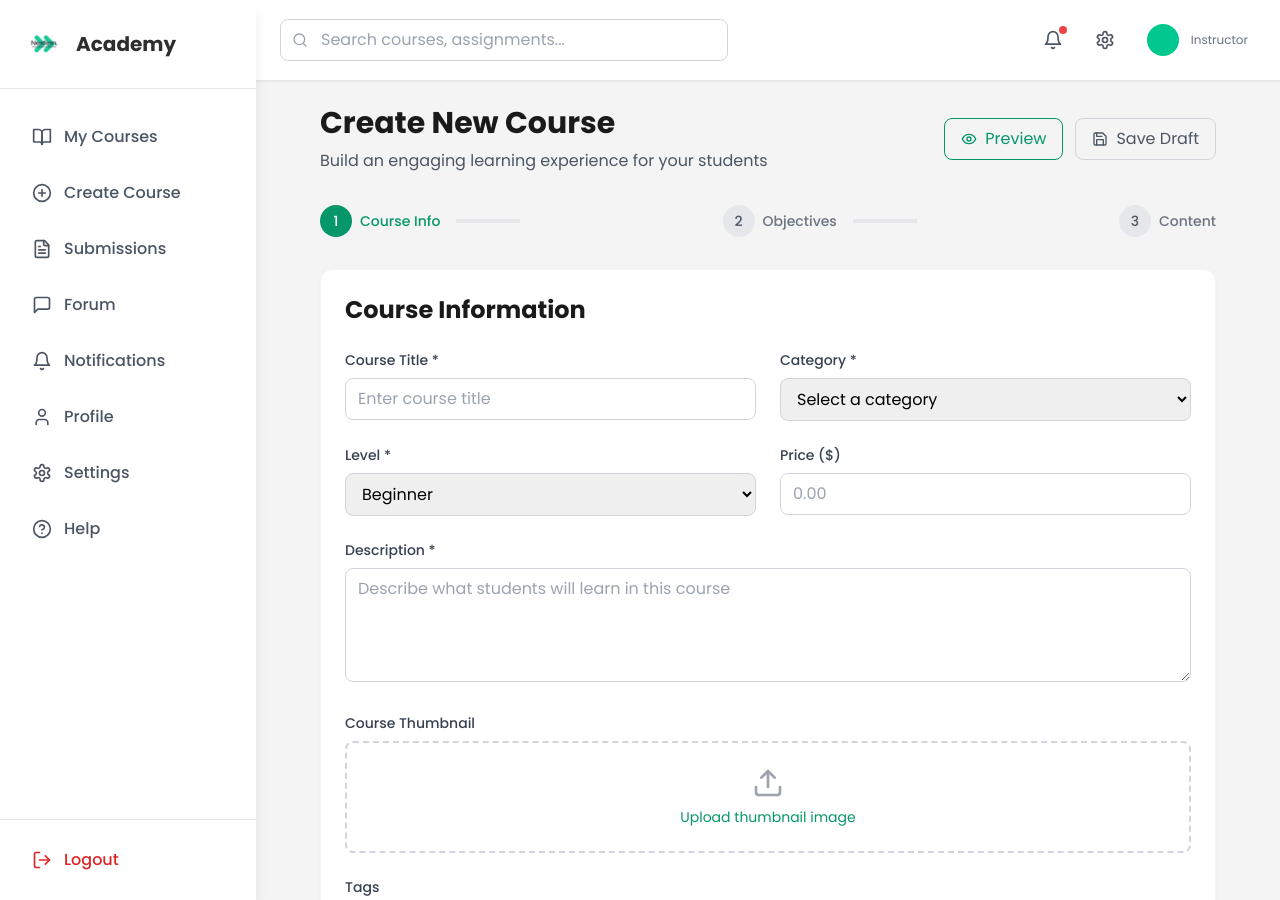
Test case: CreateCoursePage › fills basic info and advances steps
Type "My Course" into the field with placeholder "Enter course title" at (550, 399), box [345, 378, 756, 420]
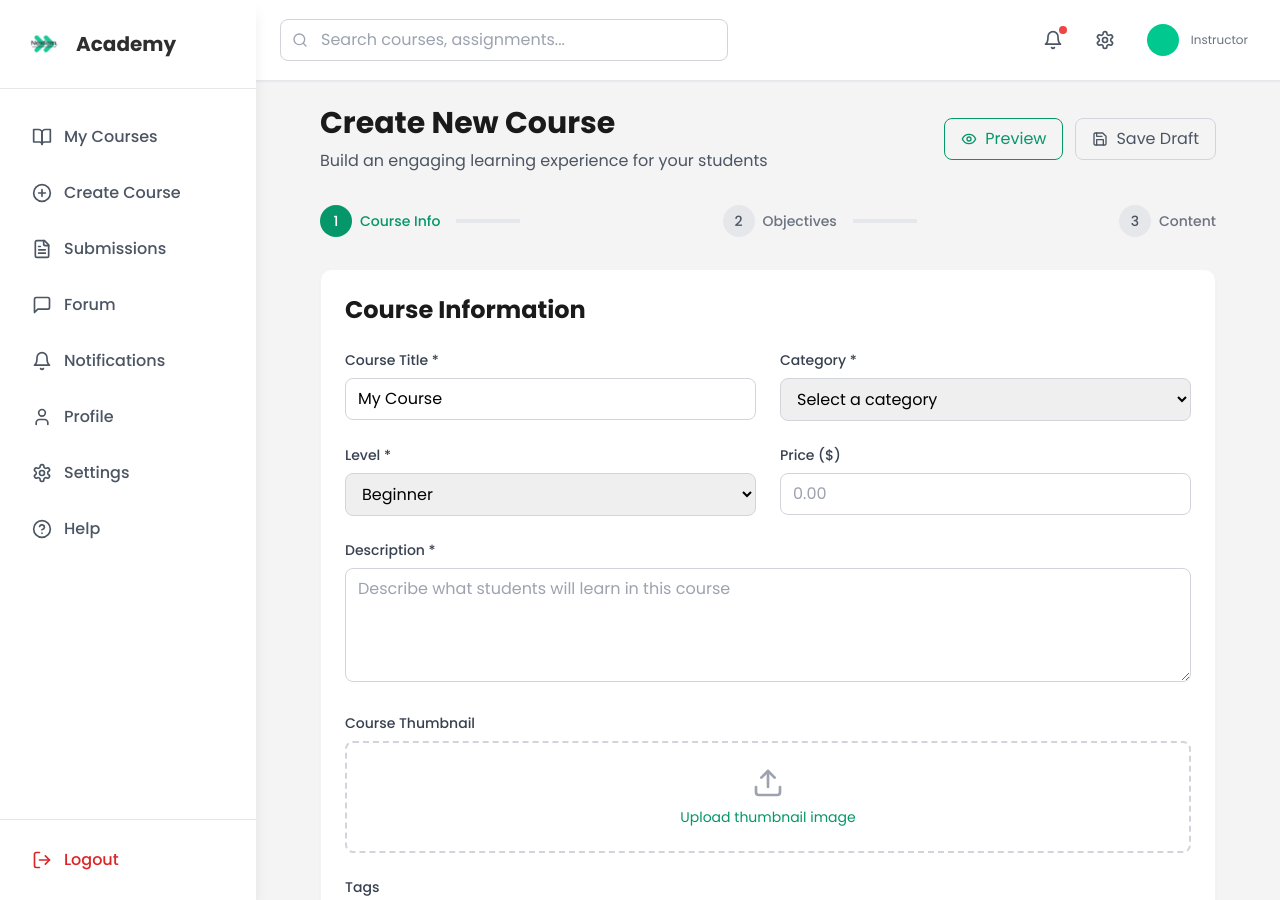
Select "Programming" in the dropdown "Select a category" below "Category *" at (986, 400), box [780, 378, 1191, 421]
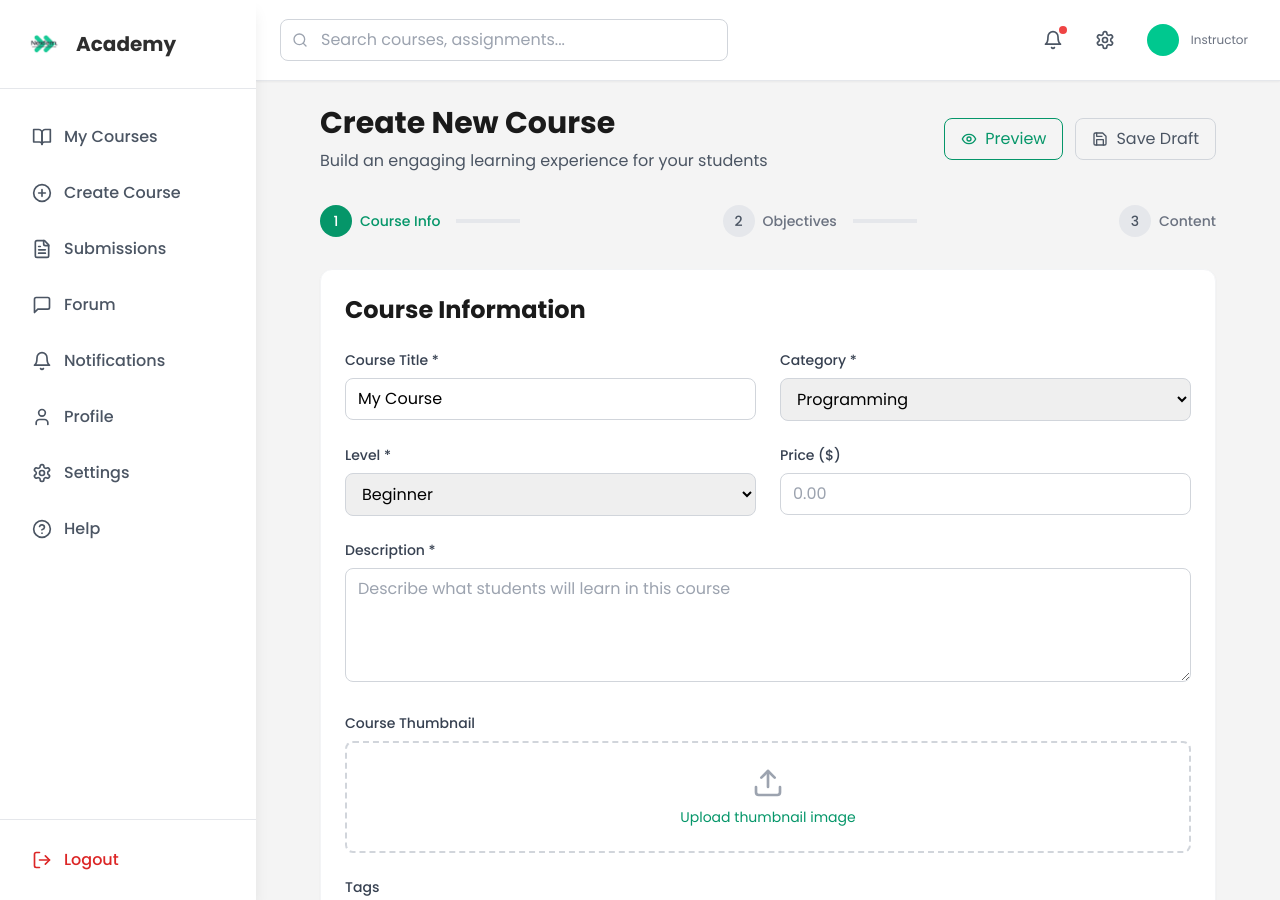
Type "10" into the number field with placeholder "0.00" at (986, 494), box [780, 473, 1191, 515]
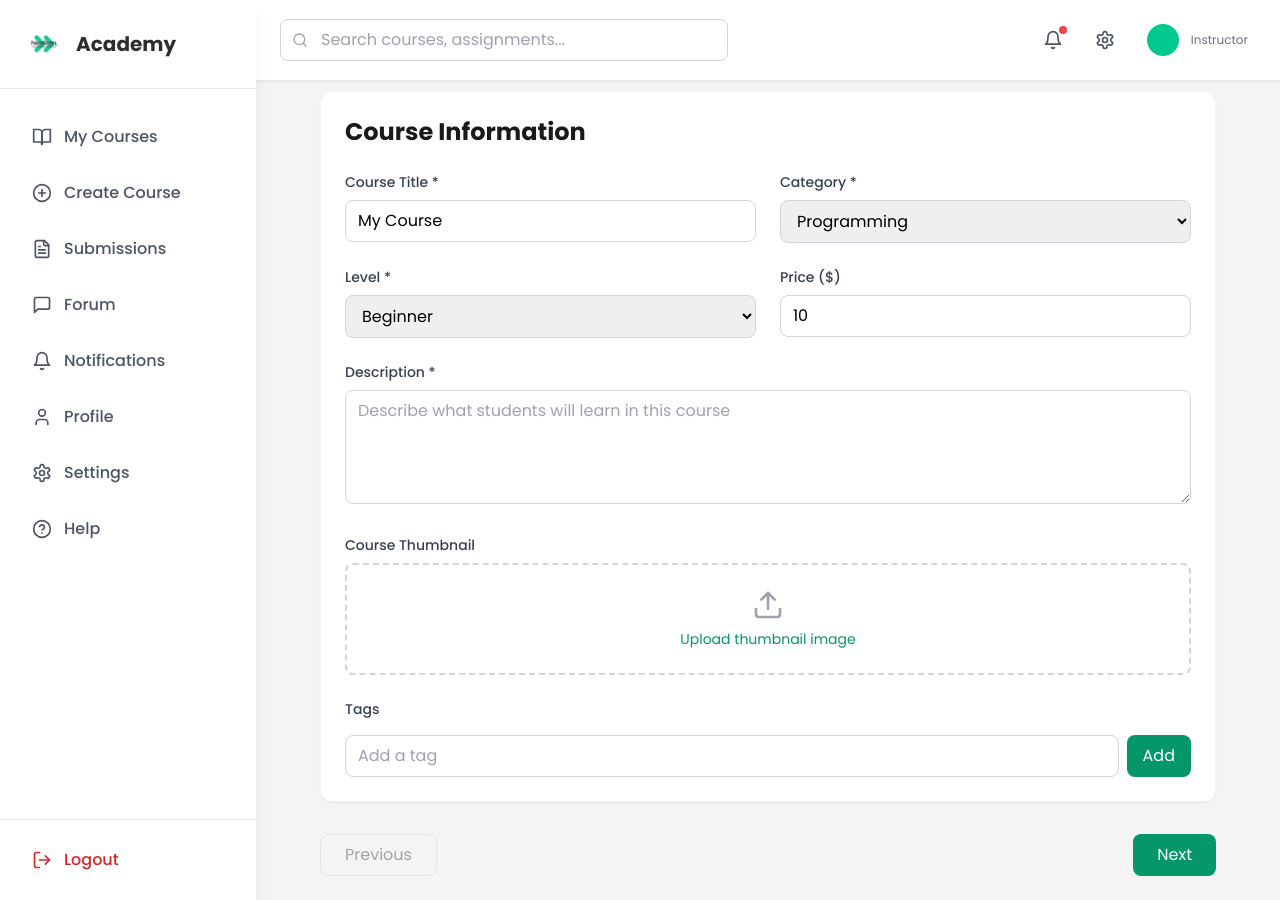
# Add a tag
Type "tag1" into the field with placeholder "Add a tag" at (732, 756), box [345, 735, 1119, 777]
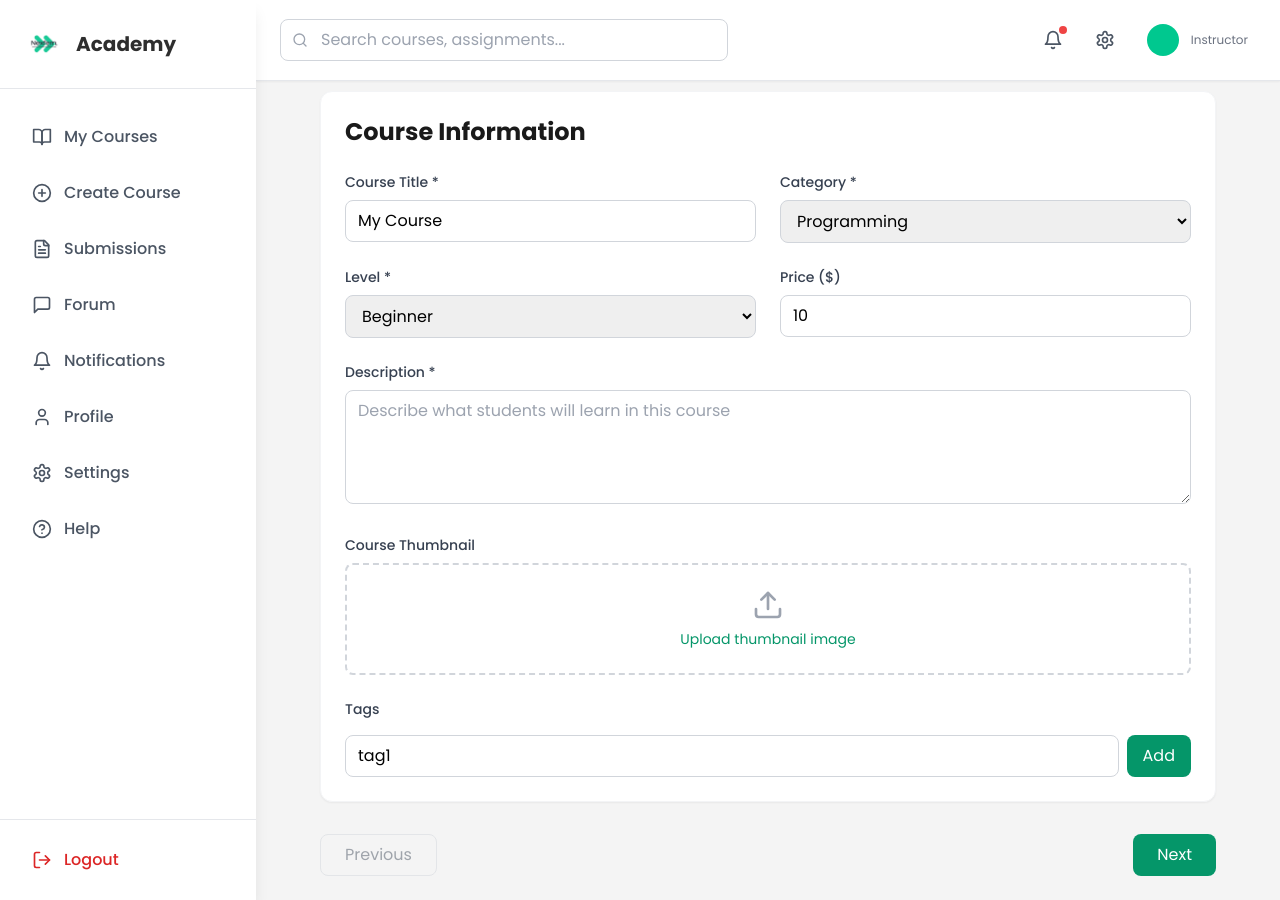
Click the button "Add" at (1159, 756), box [1127, 735, 1191, 777]
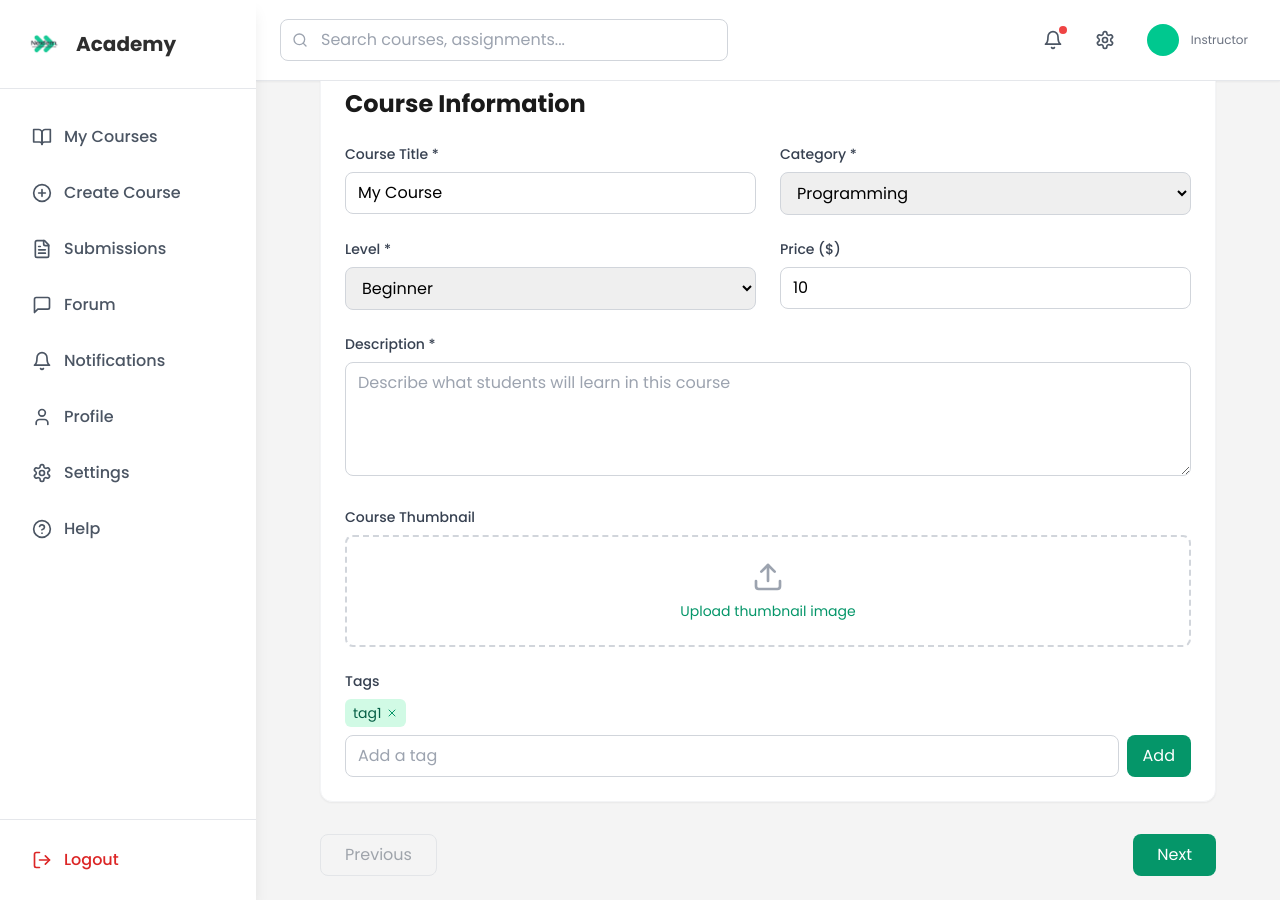
# Go to next step if control exists
Click the button "Next" at (1175, 855), box [1133, 834, 1216, 876]
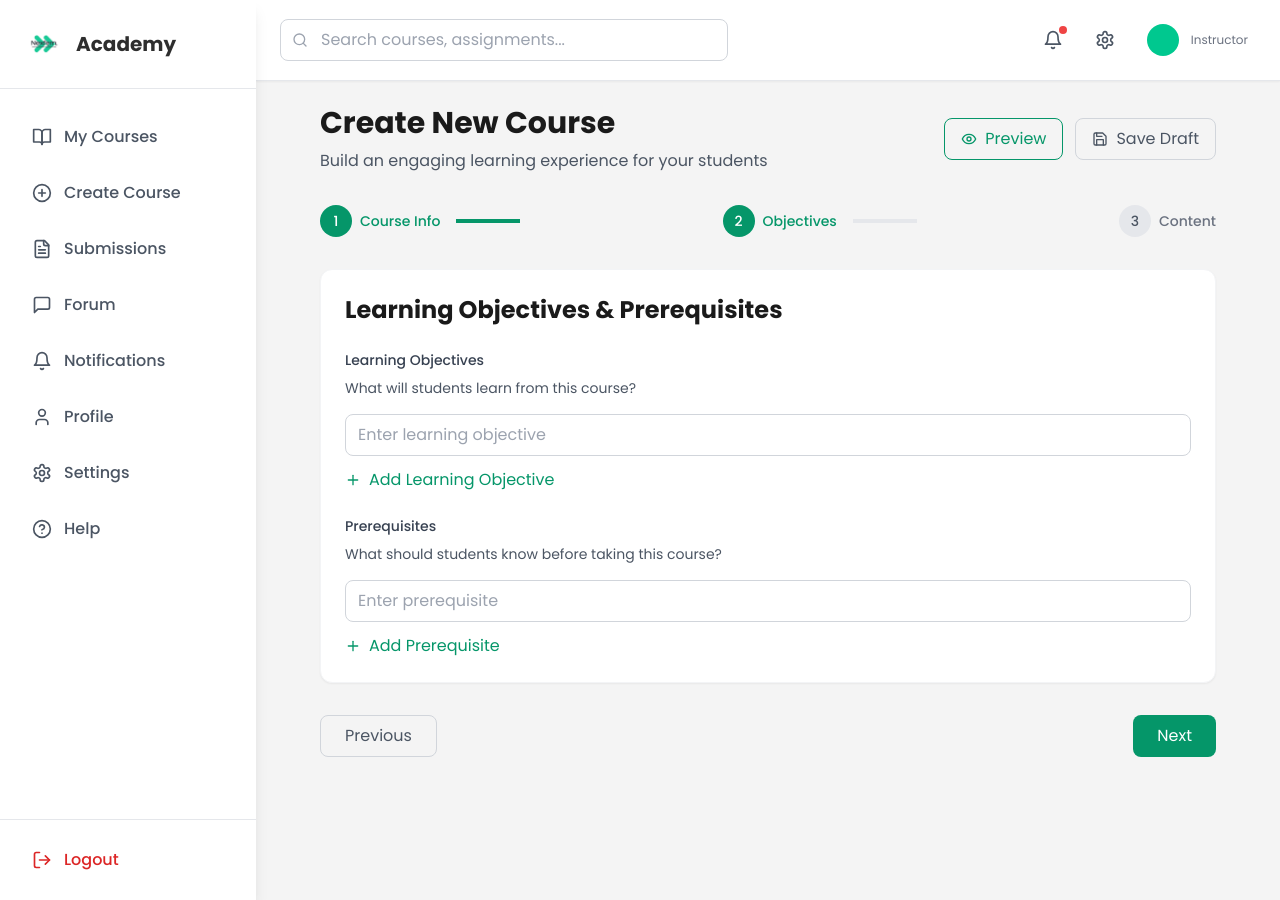
Now the heading "Learning Objectives & Prerequisites" is shown, box [345, 293, 782, 326]
